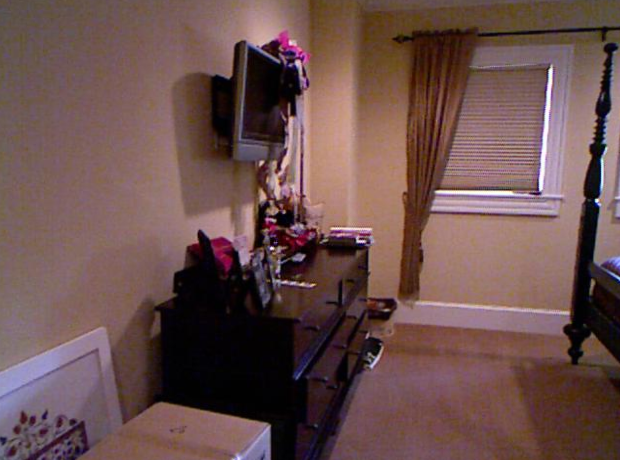cabinet: (156, 238, 371, 401)
door: (301, 297, 340, 332), (320, 342, 344, 386), (343, 260, 367, 290), (345, 297, 368, 325)
window: (440, 67, 546, 195)
